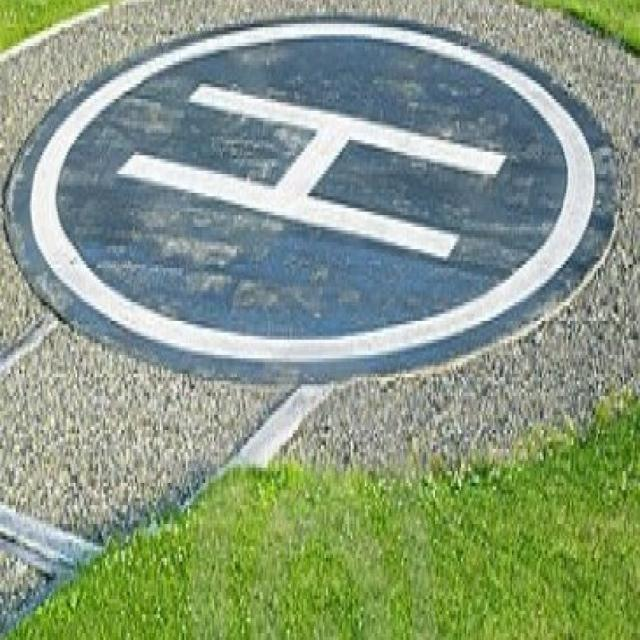helipad: (24, 12, 599, 372)
